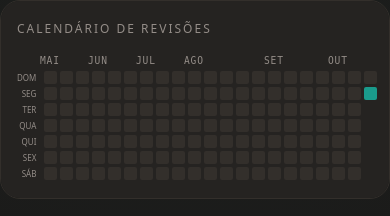
it: StreakCalendar › shows singular "revisão" in popover for count of 1
Click the button named "seg., 12 de out. de 2026 — 1 revisões" at (371, 94), box x1=364 y1=87 x2=377 y2=100
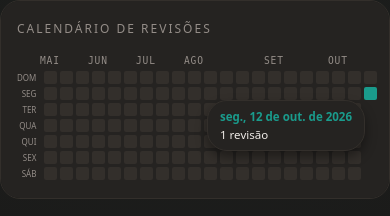
expect the text "1 revisão" is shown: met, box x1=220 y1=127 x2=268 y2=142
